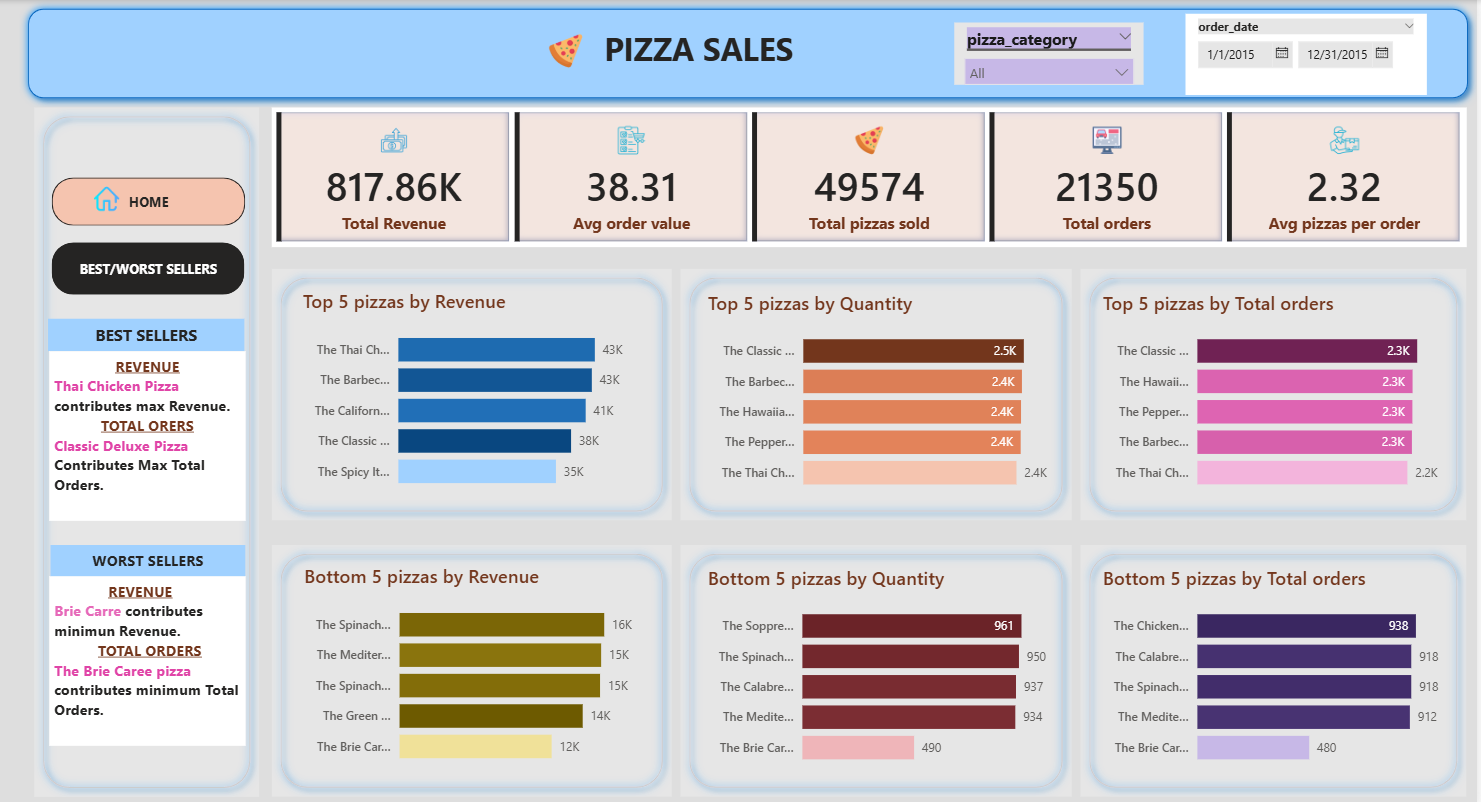

This screenshot's page, from the dashboard's own definition file:
{"tool":"powerbi","page":{"name":"BEST/WORST SELLERS","canvas":[1500,820],"ordinal":1},"visuals":[{"type":"cardVisual","fields":{"Data":["pizza_sales.Total Revenue","pizza_sales.Avg order value","pizza_sales.Total pizzas sold","pizza_sales.Total orders","pizza_sales.Avg pizzas per order"]},"box":[277.5,108.5,1211.9,141.5],"z":0},{"type":"shape","box":[22,0,1478.4,108.5],"z":1000},{"type":"textbox","box":[610.1,23.4,563.3,74.2],"z":2000},{"type":"image","box":[354.5,28.9,441.1,45.3],"z":3000},{"type":"shape","box":[1097.8,552.3,391.6,255.6],"z":4000},{"type":"shape","box":[277.5,552.3,405.3,255.6],"z":5000},{"type":"shape","box":[692.5,552.3,397.1,255.6],"z":6000},{"type":"shape","box":[37.1,108.5,228.1,699.4],"z":7000},{"type":"slicer","fields":{"Values":["pizza_sales.pizza_category"]},"box":[970,23.4,192.4,63.2],"z":8000},{"type":"slicer","fields":{"Values":["pizza_sales.order_date"]},"box":[1205,13.7,244.6,82.4],"z":9000},{"type":"textbox","box":[50.8,322.9,199.2,33],"z":10000},{"type":"textbox","box":[52.2,355.9,199.2,171.8],"z":11000},{"type":"textbox","box":[53.6,552.3,197.9,31.6],"z":12000},{"type":"textbox","box":[52.2,584,199.2,171.8],"z":13000},{"type":"shape","box":[277.5,272.1,405.3,255.6],"z":14000},{"type":"shape","box":[692.5,272.1,397.1,255.6],"z":15000},{"type":"shape","box":[1097.8,272.1,391.6,255.6],"z":16000},{"type":"barChart","title":"Top 5 pizzas by Revenue","fields":{"Category":["pizza_sales.pizza_name"],"Y":["pizza_sales.Total Revenue"]},"box":[304.5,293.4,354.6,215.5],"z":17000},{"type":"barChart","title":"Top 5 pizzas by Quantity","fields":{"Category":["pizza_sales.pizza_name"],"Y":["Sum(pizza_sales.quantity)"]},"box":[714.5,294,354.5,215.7],"z":18000},{"type":"barChart","title":"Bottom 5 pizzas by Revenue","fields":{"Category":["pizza_sales.pizza_name"],"Y":["pizza_sales.Total Revenue"]},"box":[305,571.6,354.5,215.7],"z":19000},{"type":"barChart","title":"Bottom 5 pizzas by Quantity","fields":{"Category":["pizza_sales.pizza_name"],"Y":["Sum(pizza_sales.quantity)"]},"box":[715.6,572.5,353.8,215.5],"z":20000},{"type":"barChart","title":"Top 5 pizzas by Total orders","fields":{"Category":["pizza_sales.pizza_name"],"Y":["pizza_sales.Total orders"]},"box":[1116,294.3,353.8,215.5],"z":21000},{"type":"barChart","title":"Bottom 5 pizzas by Total orders","fields":{"Category":["pizza_sales.pizza_name"],"Y":["pizza_sales.Total orders"]},"box":[1116,572.5,353.8,215.5],"z":22000},{"type":"pageNavigator","box":[55,180,197.9,49.5],"z":23001},{"type":"pageNavigator","box":[55,245.9,196.5,53.6],"z":23002},{"type":"image","box":[92.1,180,35.7,44],"z":23003}]}

Visuals, with their boxes in screenshot pixels (x1, y1, x2, y2), scaled from the page's 1500x820 canvas onto the 1481x802 screenshot:
cardVisual - pizza_sales.Total Revenue x pizza_sales.Avg order value: (x1=274, y1=106, x2=1471, y2=245)
shape: (x1=22, y1=0, x2=1480, y2=106)
textbox: (x1=602, y1=23, x2=1159, y2=95)
image: (x1=350, y1=28, x2=786, y2=73)
shape: (x1=1084, y1=540, x2=1471, y2=790)
shape: (x1=274, y1=540, x2=674, y2=790)
shape: (x1=684, y1=540, x2=1076, y2=790)
shape: (x1=37, y1=106, x2=262, y2=790)
slicer - pizza_sales.pizza_category: (x1=958, y1=23, x2=1148, y2=85)
slicer - pizza_sales.order_date: (x1=1190, y1=13, x2=1431, y2=94)
textbox: (x1=50, y1=316, x2=247, y2=348)
textbox: (x1=52, y1=348, x2=248, y2=516)
textbox: (x1=53, y1=540, x2=248, y2=571)
textbox: (x1=52, y1=571, x2=248, y2=739)
shape: (x1=274, y1=266, x2=674, y2=516)
shape: (x1=684, y1=266, x2=1076, y2=516)
shape: (x1=1084, y1=266, x2=1471, y2=516)
"Top 5 pizzas by Revenue" barChart: (x1=301, y1=287, x2=651, y2=498)
"Top 5 pizzas by Quantity" barChart: (x1=705, y1=288, x2=1055, y2=499)
"Bottom 5 pizzas by Revenue" barChart: (x1=301, y1=559, x2=651, y2=770)
"Bottom 5 pizzas by Quantity" barChart: (x1=707, y1=560, x2=1056, y2=771)
"Top 5 pizzas by Total orders" barChart: (x1=1102, y1=288, x2=1451, y2=499)
"Bottom 5 pizzas by Total orders" barChart: (x1=1102, y1=560, x2=1451, y2=771)
pageNavigator: (x1=54, y1=176, x2=250, y2=224)
pageNavigator: (x1=54, y1=241, x2=248, y2=293)
image: (x1=91, y1=176, x2=126, y2=219)
